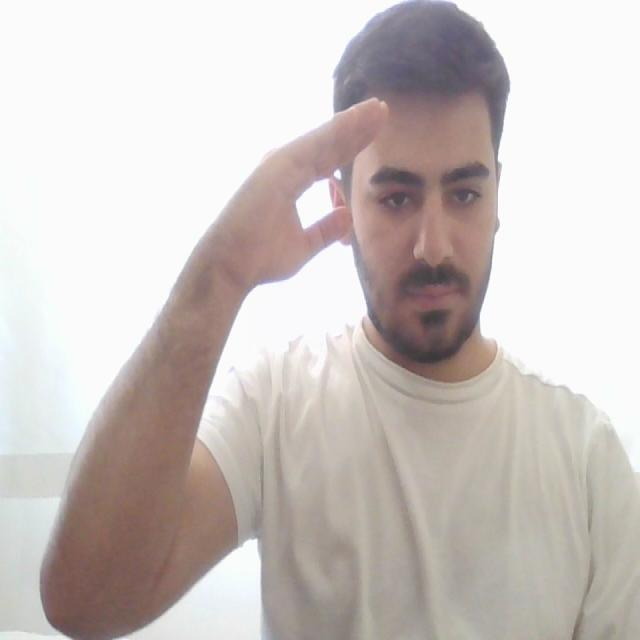Merhaba: (216, 83, 410, 340)
